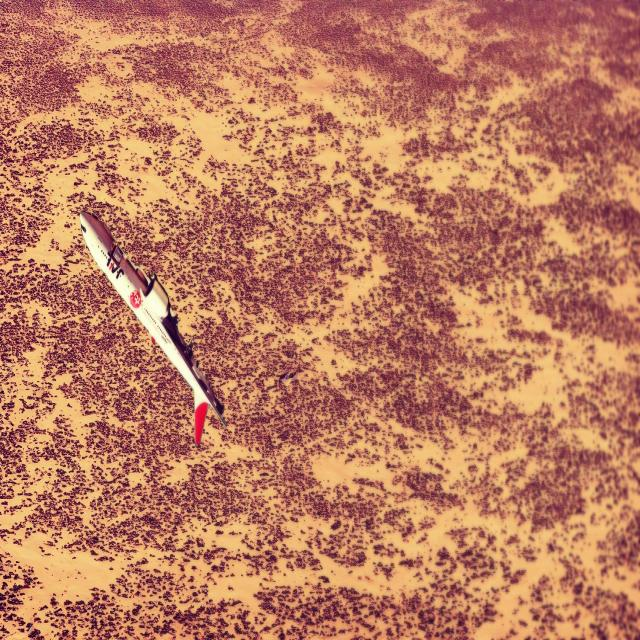airplane: (79, 208, 227, 448)
